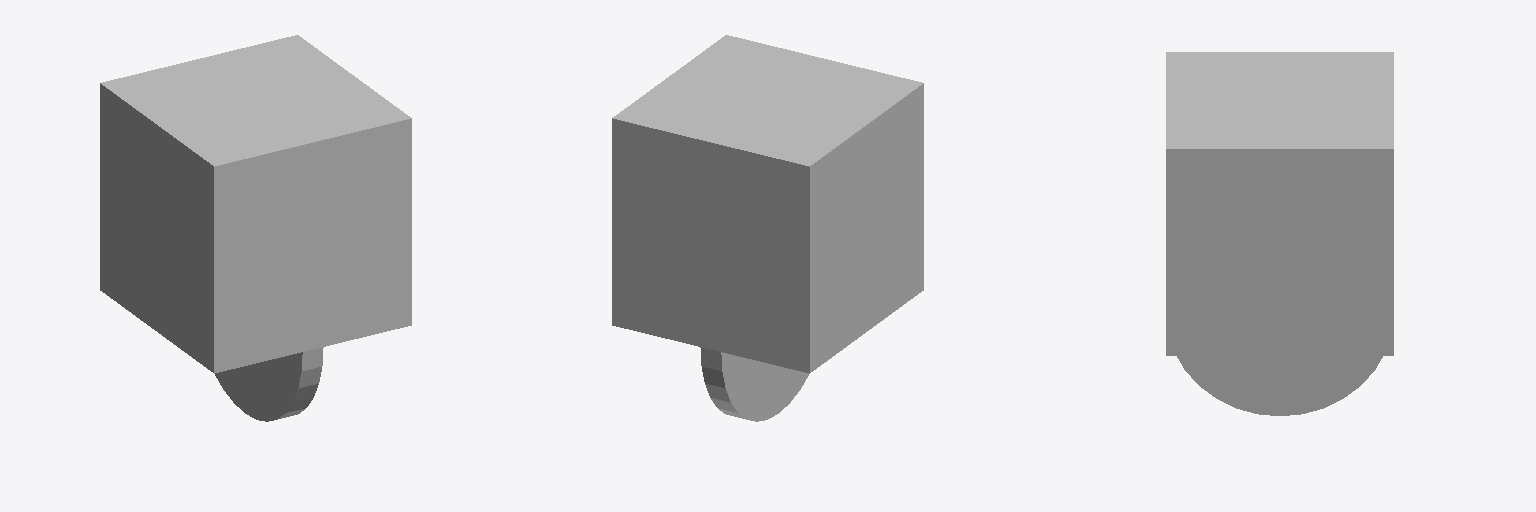
File: demo_car.obj
3 views of the same model, side by side, from view 1: azimuth 30°, elevation 25°; view 2: azimuth 150°, elevation 25°; view 3: azimuth 270°, elevation 25° (orthographic).
Visible parts, largest first — view 1: Cube; view 2: Cube; view 3: Cube.
Boxes of the visible parts, box(x1,y1,x2,y2) form: Cube: box(100, 35, 411, 421); Cube: box(612, 35, 923, 421); Cube: box(1166, 52, 1393, 415).
Size of the model in its own units: 2 by 3 by 2.